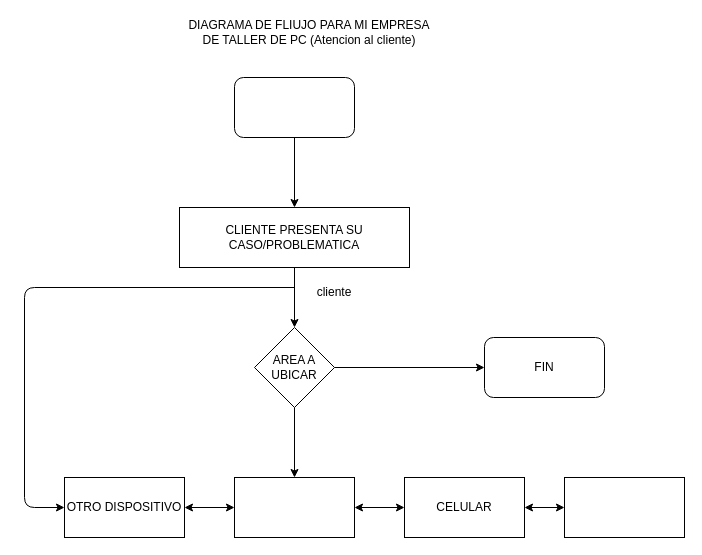
Image size: 702x555. Some labels were removed from this diagram. The shapes that lost their labels are listed below. From the top down, each one's box as (x1, y1, x2, y2) in pixels, then its label:
(234, 76, 354, 138): INICIO
(234, 476, 354, 538): PC
(564, 476, 684, 538): OTRO
